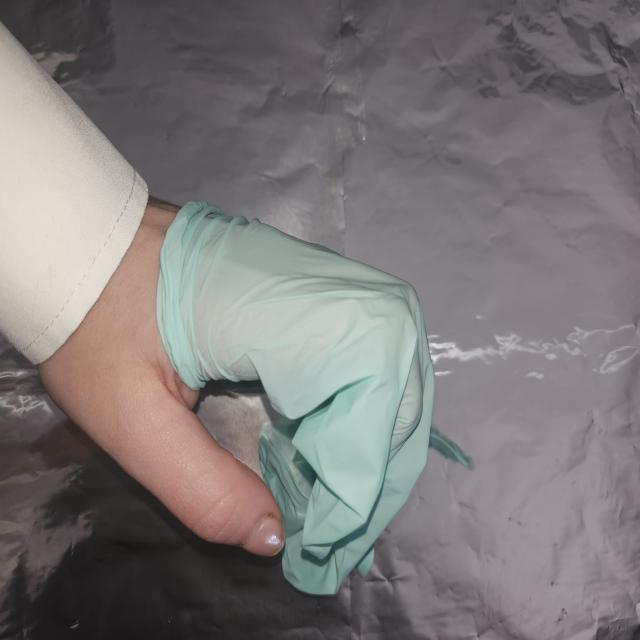glove_partial: (41, 197, 476, 598)
